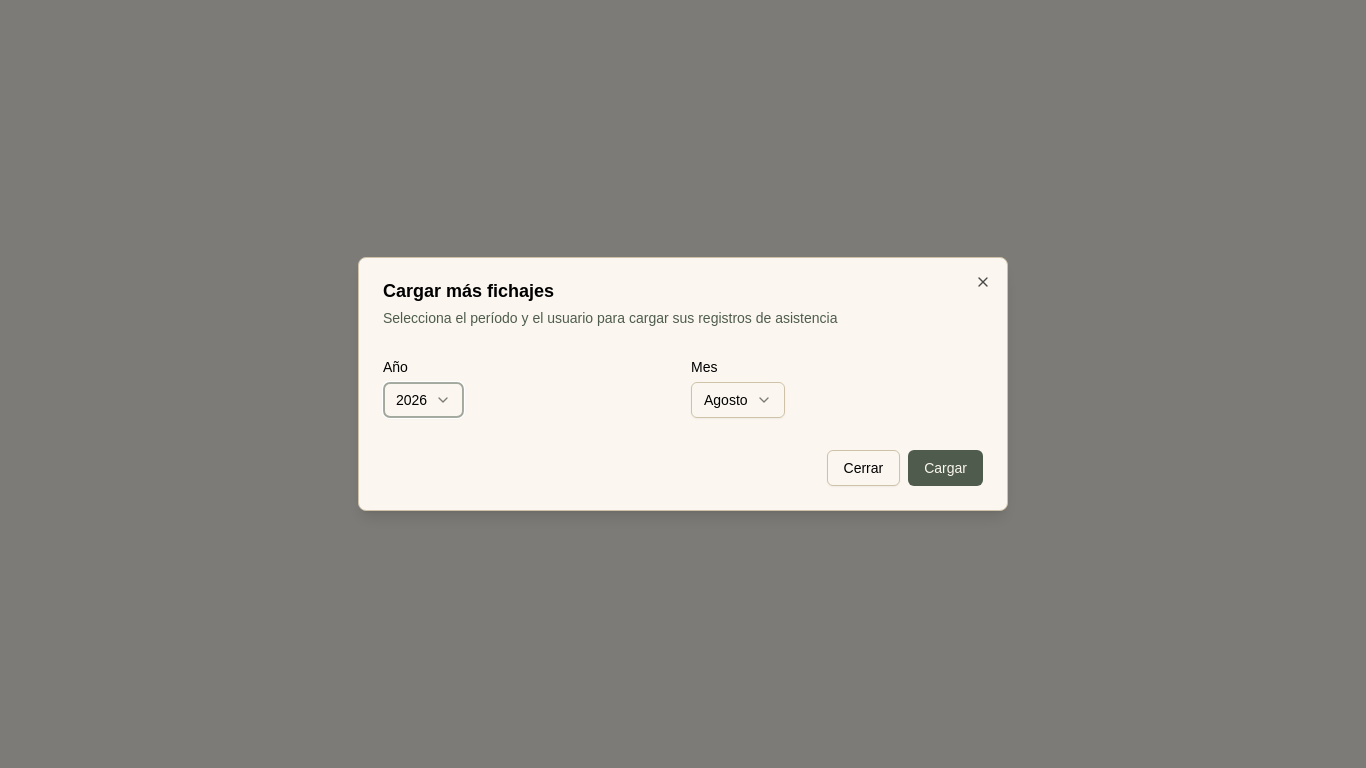
Test case: LoadMoreAttendanceModal › shows "No hay registros" when results are empty
Click the button "Cargar". click: (946, 468)
box: [908,450,983,486]
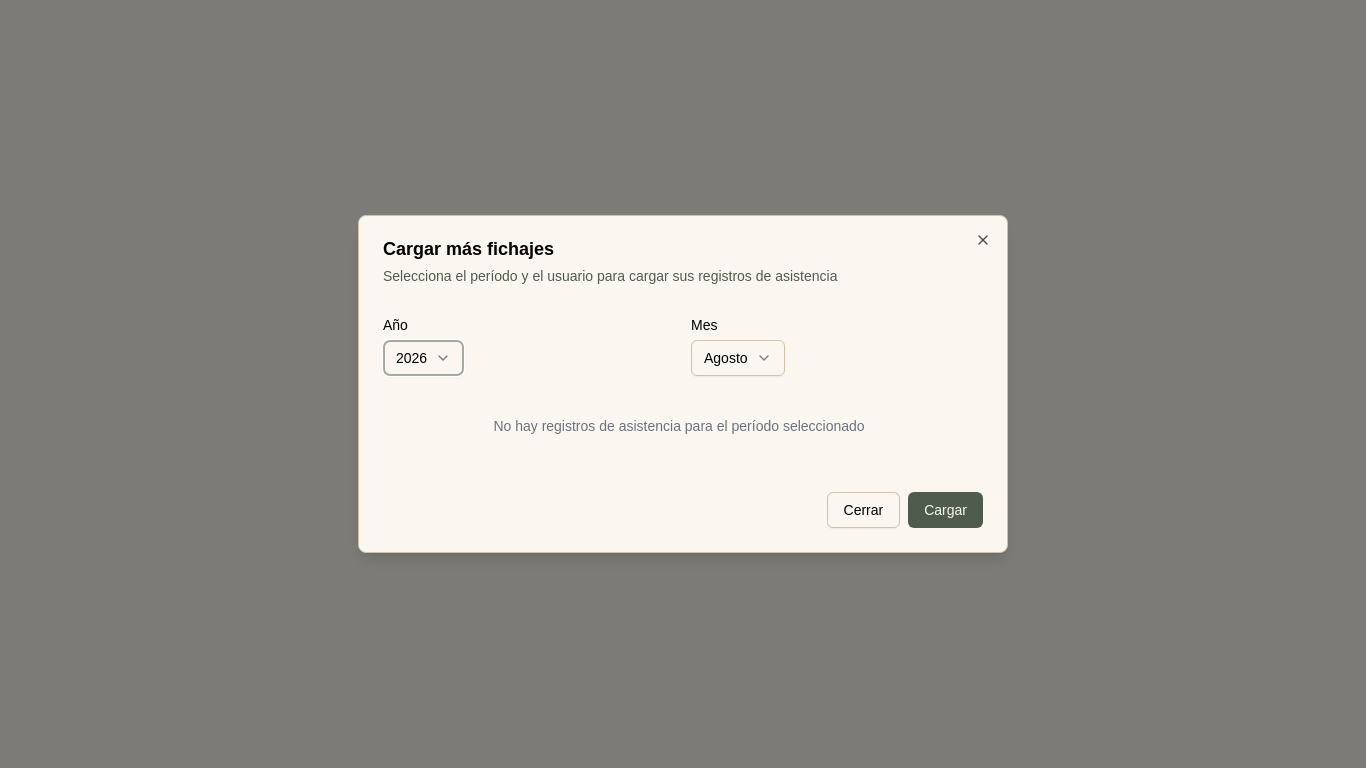
Expected: the text "No hay registros de asistencia para el período seleccionado" is shown, [493,418,865,434]
